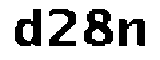2: (46, 6, 80, 53)
8: (83, 5, 115, 51)
d: (13, 5, 44, 52)
n: (116, 15, 148, 49)
